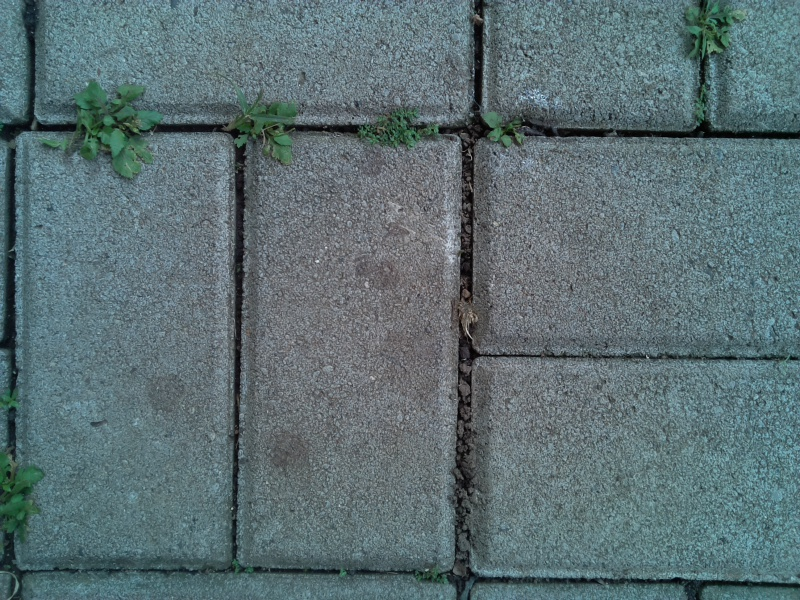Weed: (64, 75, 160, 187), (224, 85, 305, 173), (352, 104, 439, 156), (3, 444, 46, 545), (681, 1, 743, 66), (474, 104, 535, 153), (448, 293, 492, 337), (689, 79, 722, 125), (409, 566, 454, 589), (227, 554, 258, 582), (1, 384, 24, 414), (334, 563, 360, 580)
